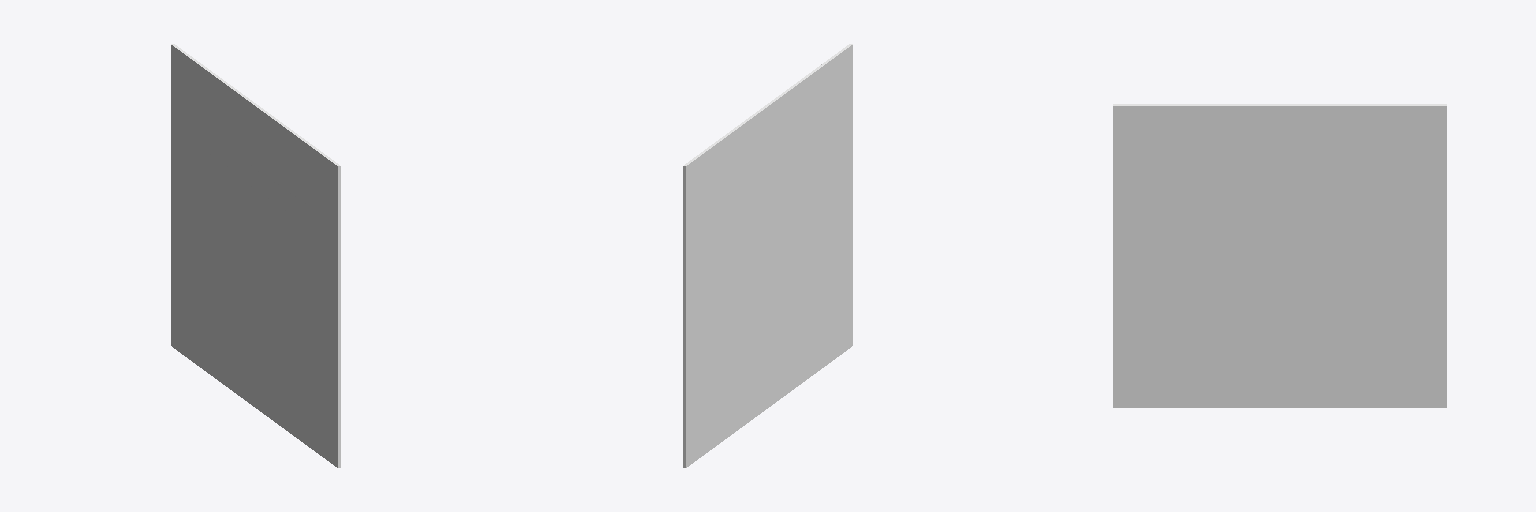
File: side_tile.obj
The picture shows the model from 3 angles: view 1: azimuth 30°, elevation 25°; view 2: azimuth 150°, elevation 25°; view 3: azimuth 270°, elevation 25°; orthographic projection.
Parts seen in each view (by area): view 1: object 1; view 2: object 1; view 3: object 1.
Part boxes in pixels (x1,y1,x2,y2): object 1: (171,44,340,467); object 1: (683,44,852,467); object 1: (1113,104,1446,407).
Bounding box in the file's own units: 0.1 × 10 × 10.